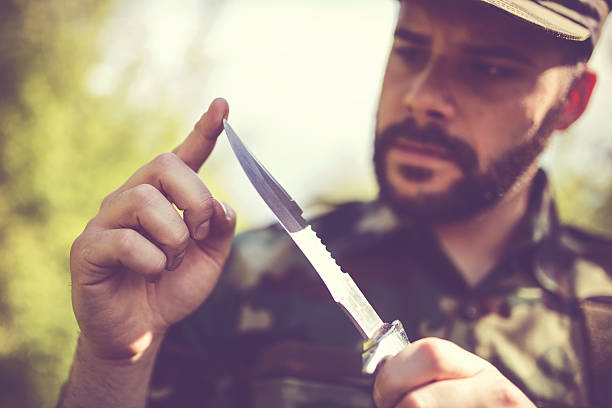knife: (220, 117, 411, 375)
